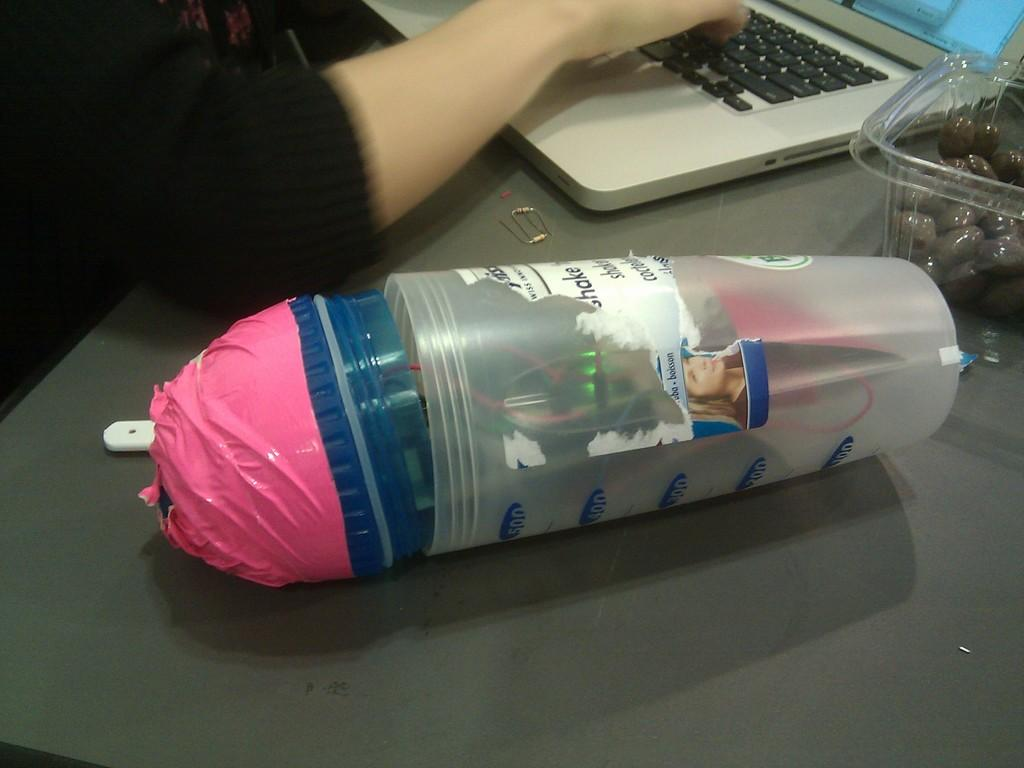Computer-keyboard: (634, 8, 890, 114)
